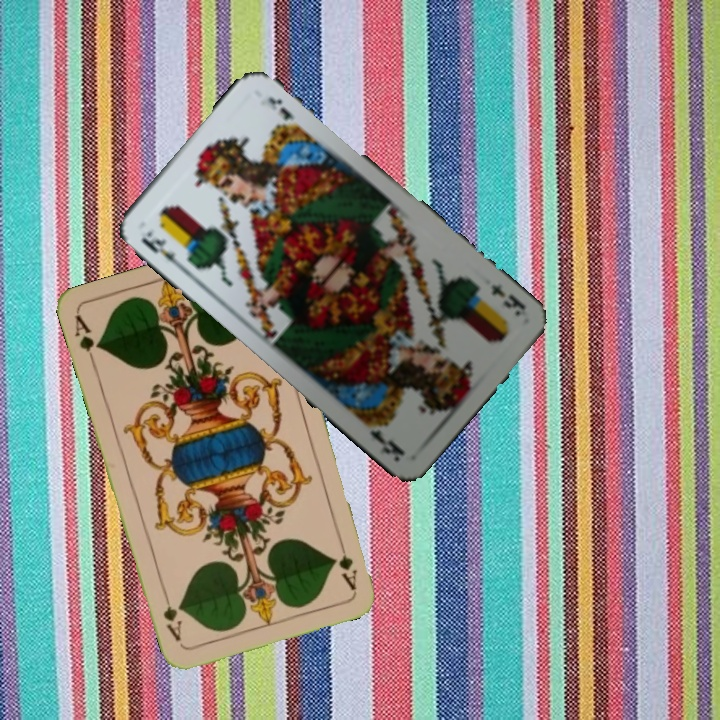EK: (136, 226, 186, 272), (487, 279, 528, 319)
GA: (70, 311, 103, 369), (334, 534, 360, 593)
